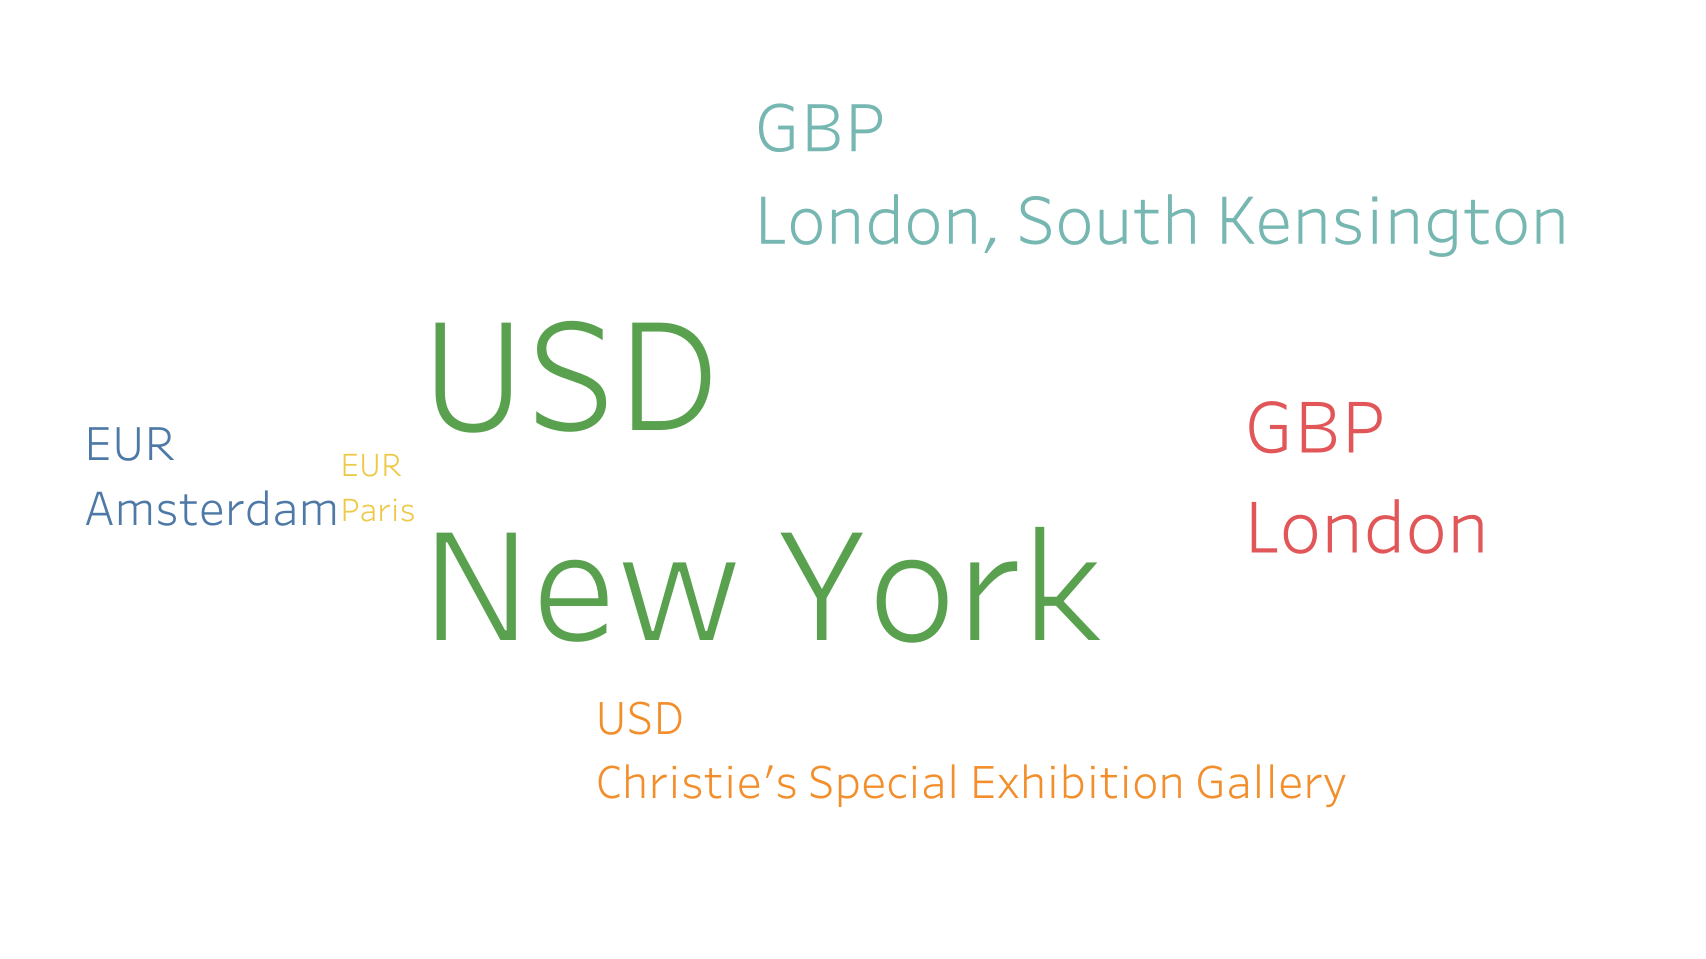

The dashboard page shown, as its layout file describes it:
{"tool":"tableau","page":{"name":"currencies","canvas":[1366,768],"ordinal":3},"visuals":[{"type":"blank","box":[8,8,55,752]},{"type":"blank","box":[63,8,1200,32]},{"type":"blank","box":[1263,8,95,752]},{"type":"worksheet","title":"Total sales sum by currency and location","mark":"Text","box":[63,40,1200,680]},{"type":"blank","box":[63,720,1200,40]}]}

Visuals, with their boxes in screenshot pixels (x1, y1, x2, y2), scaled from the page's 1366x768 canvas onto the 1706x959 screenshot:
blank: <bbox>10, 10, 79, 949</bbox>
blank: <bbox>79, 10, 1577, 50</bbox>
blank: <bbox>1577, 10, 1696, 949</bbox>
"Total sales sum by currency and location" worksheet (Text marks): <bbox>79, 50, 1577, 899</bbox>
blank: <bbox>79, 899, 1577, 949</bbox>
